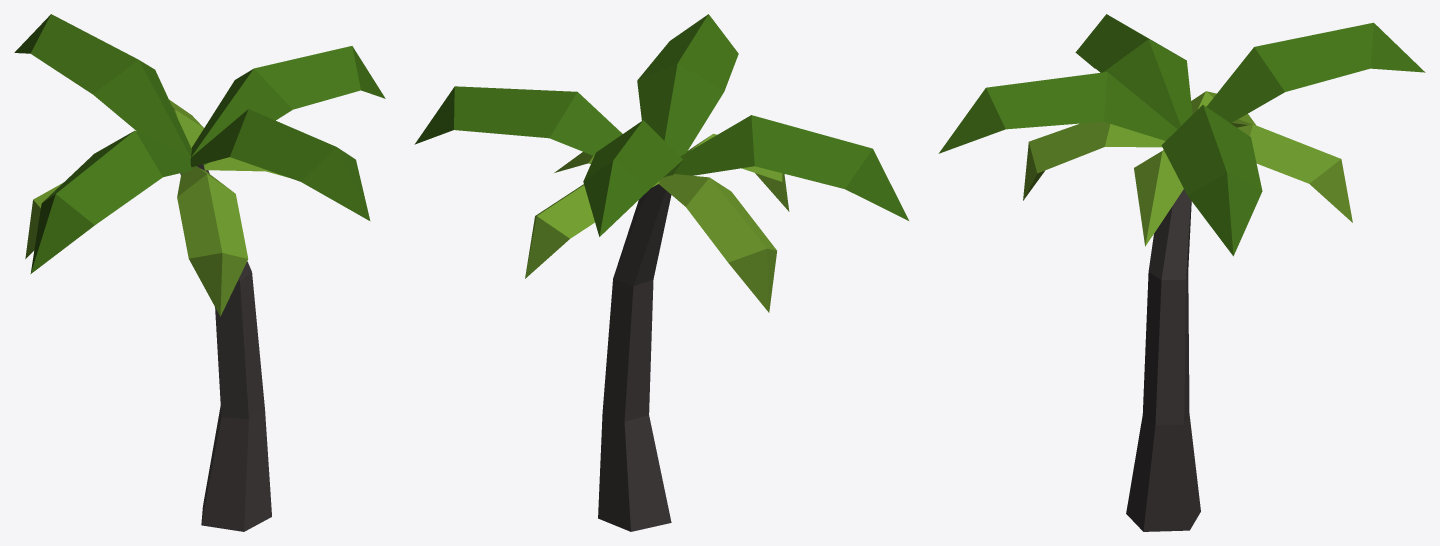
Rendered from TB_D_Env_Tree_PalmD_C.FBX.
3 views of the same model, side by side, from view 1: azimuth 30°, elevation 25°; view 2: azimuth 150°, elevation 25°; view 3: azimuth 270°, elevation 25° (orthographic). The views are drawn at different scales.
Parts seen in each view (by area): view 1: TB_D_Env_Tree_PalmD_C; view 2: TB_D_Env_Tree_PalmD_C; view 3: TB_D_Env_Tree_PalmD_C.
Part boxes in pixels (left/top/right/bottom): TB_D_Env_Tree_PalmD_C: left=14, top=14, right=385, bottom=531; TB_D_Env_Tree_PalmD_C: left=414, top=14, right=908, bottom=531; TB_D_Env_Tree_PalmD_C: left=938, top=14, right=1425, bottom=531.
Size of the model in its own units: 5.27 by 5.31 by 5.15.
